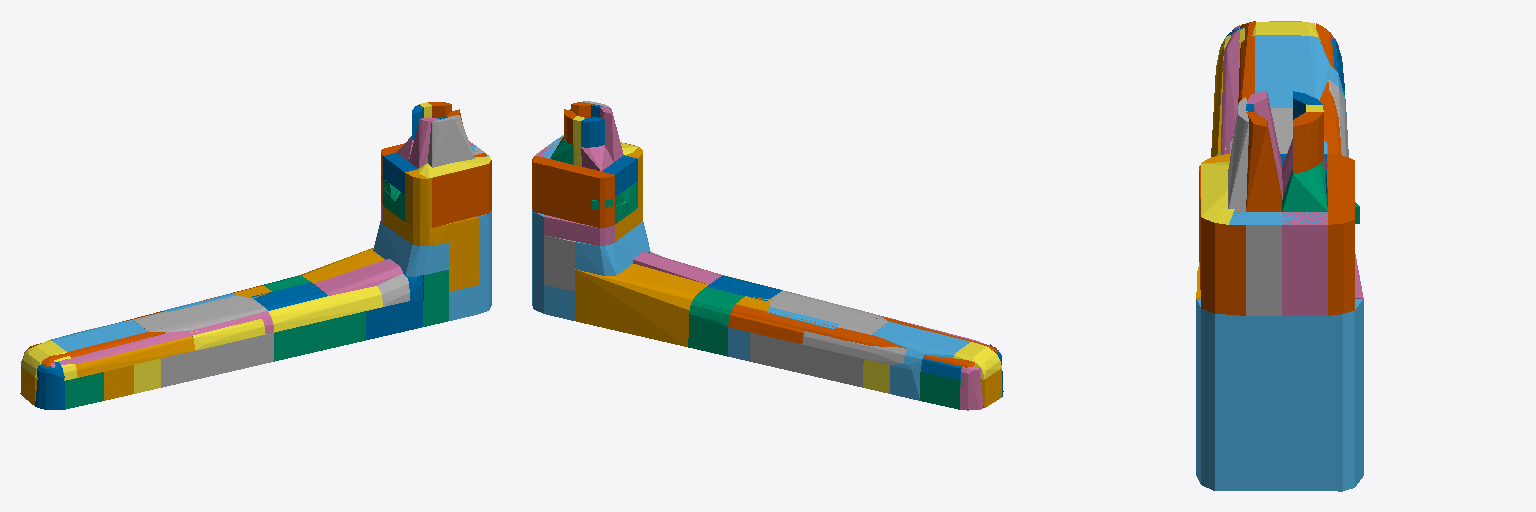
--- Render facts (derived) ---
Views: 3 orthographic renders of the robot side by side, from view 1: azimuth 30°, elevation 25°; view 2: azimuth 150°, elevation 25°; view 3: azimuth 270°, elevation 25°.
Model root with 64 links and 63 joints (63 fixed), rooted at link_handle~handle10_convex_piece_0, posed all joints at 0.
Links seen in each view (by area): view 1: link_handle~handle10_convex_piece_63, link_handle~handle10_convex_piece_21, link_handle~handle10_convex_piece_58, link_handle~handle10_convex_piece_35, link_handle~handle10_convex_piece_47, link_handle~handle10_convex_piece_49, link_handle~handle10_convex_piece_8, link_handle~handle10_convex_piece_55, link_handle~handle10_convex_piece_48, link_handle~handle10_convex_piece_44, link_handle~handle10_convex_piece_46, link_handle~handle10_convex_piece_38 (+19 smaller); view 2: link_handle~handle10_convex_piece_56, link_handle~handle10_convex_piece_45, link_handle~handle10_convex_piece_63, link_handle~handle10_convex_piece_34, link_handle~handle10_convex_piece_49, link_handle~handle10_convex_piece_47, link_handle~handle10_convex_piece_61, link_handle~handle10_convex_piece_41, link_handle~handle10_convex_piece_7, link_handle~handle10_convex_piece_22, link_handle~handle10_convex_piece_57, link_handle~handle10_convex_piece_25 (+17 smaller); view 3: link_handle~handle10_convex_piece_25, link_handle~handle10_convex_piece_6, link_handle~handle10_convex_piece_41, link_handle~handle10_convex_piece_45, link_handle~handle10_convex_piece_21, link_handle~handle10_convex_piece_15, link_handle~handle10_convex_piece_53, link_handle~handle10_convex_piece_55, link_handle~handle10_convex_piece_26, link_handle~handle10_convex_piece_29, link_handle~handle10_convex_piece_38, link_handle~handle10_convex_piece_43 (+7 smaller).
Boxes of the visible links, x1,y1,x2,y2 form: link_handle~handle10_convex_piece_63: (161,333,273,387); link_handle~handle10_convex_piece_21: (432,153,491,227); link_handle~handle10_convex_piece_58: (274,311,365,361); link_handle~handle10_convex_piece_35: (268,286,382,332); link_handle~handle10_convex_piece_47: (134,295,267,333); link_handle~handle10_convex_piece_49: (373,220,448,276); link_handle~handle10_convex_piece_8: (449,216,479,291); link_handle~handle10_convex_piece_55: (428,115,474,167); link_handle~handle10_convex_piece_48: (75,336,194,377); link_handle~handle10_convex_piece_44: (366,298,422,339); link_handle~handle10_convex_piece_46: (314,259,402,295); link_handle~handle10_convex_piece_38: (50,313,261,367); link_handle~handle10_convex_piece_56: (575,264,707,346); link_handle~handle10_convex_piece_45: (532,156,614,227); link_handle~handle10_convex_piece_63: (750,332,863,387); link_handle~handle10_convex_piece_34: (688,287,744,356); link_handle~handle10_convex_piece_49: (575,221,650,275); link_handle~handle10_convex_piece_47: (769,291,888,332); link_handle~handle10_convex_piece_61: (731,304,974,367); link_handle~handle10_convex_piece_41: (872,322,969,357); link_handle~handle10_convex_piece_7: (544,235,575,291); link_handle~handle10_convex_piece_22: (544,215,614,245); link_handle~handle10_convex_piece_57: (890,348,924,400); link_handle~handle10_convex_piece_25: (532,209,546,313); link_handle~handle10_convex_piece_25: (1196,299,1363,491); link_handle~handle10_convex_piece_6: (1282,212,1327,315); link_handle~handle10_convex_piece_41: (1255,35,1329,107); link_handle~handle10_convex_piece_45: (1327,154,1354,315); link_handle~handle10_convex_piece_21: (1199,166,1245,315); link_handle~handle10_convex_piece_15: (1246,214,1281,315); link_handle~handle10_convex_piece_53: (1246,112,1281,211); link_handle~handle10_convex_piece_55: (1228,97,1248,211); link_handle~handle10_convex_piece_26: (1282,159,1327,211); link_handle~handle10_convex_piece_29: (1293,112,1323,173); link_handle~handle10_convex_piece_38: (1221,25,1239,154); link_handle~handle10_convex_piece_43: (1201,162,1234,224).
Size in the robot's own frame: 0.1277 by 0.0227 by 0.052 metres.
64 mesh visuals loaded from 64 distinct referenced files (64 OBJ).

The robot description file, URDF, robot "root":
<robot name="root">
  <link name="link_handle~handle10_convex_piece_0">
    <inertial>
      <origin xyz="0 0 0" rpy="0 0 0"/>
      <mass value="9.66E-04"/>
      <inertia ixx="1.10E-07" ixy="-2.01E-07" ixz="-5.53E-07" iyy="3.87E-06" iyz="-3.13E-08" izz="3.80E-06"/>
    </inertial>
    <visual>
      <origin xyz="0 0 0" rpy="0 0 0"/>
      <geometry>
        <mesh filename="handle~handle10_convex_piece_0.obj" scale="1.0000E+00 1.0000E+00 1.0000E+00"/>
      </geometry>
      <material name=""/>
    </visual>
    <collision>
      <origin xyz="0 0 0" rpy="0 0 0"/>
      <geometry>
        <mesh filename="handle~handle10_convex_piece_0.obj" scale="1.0000E+00 1.0000E+00 1.0000E+00"/>
      </geometry>
    </collision>
  </link>
  <link name="link_handle~handle10_convex_piece_1">
    <inertial>
      <origin xyz="0 0 0" rpy="0 0 0"/>
      <mass value="5.49E-04"/>
      <inertia ixx="7.18E-08" ixy="4.76E-08" ixz="-7.96E-08" iyy="1.89E-07" iyz="2.88E-08" izz="1.57E-07"/>
    </inertial>
    <visual>
      <origin xyz="0 0 0" rpy="0 0 0"/>
      <geometry>
        <mesh filename="handle~handle10_convex_piece_1.obj" scale="1.0000E+00 1.0000E+00 1.0000E+00"/>
      </geometry>
      <material name=""/>
    </visual>
    <collision>
      <origin xyz="0 0 0" rpy="0 0 0"/>
      <geometry>
        <mesh filename="handle~handle10_convex_piece_1.obj" scale="1.0000E+00 1.0000E+00 1.0000E+00"/>
      </geometry>
    </collision>
  </link>
  <joint name="link_handle~handle10_convex_piece_1_joint" type="fixed">
    <origin xyz="0 0 0" rpy="0 0 0"/>
    <parent link="link_handle~handle10_convex_piece_0"/>
    <child link="link_handle~handle10_convex_piece_1"/>
  </joint>
  <link name="link_handle~handle10_convex_piece_2">
    <inertial>
      <origin xyz="0 0 0" rpy="0 0 0"/>
      <mass value="1.30E-03"/>
      <inertia ixx="1.38E-07" ixy="1.82E-07" ixz="2.47E-07" iyy="1.01E-06" iyz="-4.94E-08" izz="9.71E-07"/>
    </inertial>
    <visual>
      <origin xyz="0 0 0" rpy="0 0 0"/>
      <geometry>
        <mesh filename="handle~handle10_convex_piece_2.obj" scale="1.0000E+00 1.0000E+00 1.0000E+00"/>
      </geometry>
      <material name=""/>
    </visual>
    <collision>
      <origin xyz="0 0 0" rpy="0 0 0"/>
      <geometry>
        <mesh filename="handle~handle10_convex_piece_2.obj" scale="1.0000E+00 1.0000E+00 1.0000E+00"/>
      </geometry>
    </collision>
  </link>
  <joint name="link_handle~handle10_convex_piece_2_joint" type="fixed">
    <origin xyz="0 0 0" rpy="0 0 0"/>
    <parent link="link_handle~handle10_convex_piece_1"/>
    <child link="link_handle~handle10_convex_piece_2"/>
  </joint>
  <link name="link_handle~handle10_convex_piece_3">
    <inertial>
      <origin xyz="0 0 0" rpy="0 0 0"/>
      <mass value="1.32E-03"/>
      <inertia ixx="1.67E-07" ixy="3.54E-09" ixz="-6.92E-07" iyy="4.07E-06" iyz="2.97E-10" izz="3.97E-06"/>
    </inertial>
    <visual>
      <origin xyz="0 0 0" rpy="0 0 0"/>
      <geometry>
        <mesh filename="handle~handle10_convex_piece_3.obj" scale="1.0000E+00 1.0000E+00 1.0000E+00"/>
      </geometry>
      <material name=""/>
    </visual>
    <collision>
      <origin xyz="0 0 0" rpy="0 0 0"/>
      <geometry>
        <mesh filename="handle~handle10_convex_piece_3.obj" scale="1.0000E+00 1.0000E+00 1.0000E+00"/>
      </geometry>
    </collision>
  </link>
  <joint name="link_handle~handle10_convex_piece_3_joint" type="fixed">
    <origin xyz="0 0 0" rpy="0 0 0"/>
    <parent link="link_handle~handle10_convex_piece_2"/>
    <child link="link_handle~handle10_convex_piece_3"/>
  </joint>
  <link name="link_handle~handle10_convex_piece_4">
    <inertial>
      <origin xyz="0 0 0" rpy="0 0 0"/>
      <mass value="1.26E-04"/>
      <inertia ixx="9.52E-09" ixy="2.07E-08" ixz="8.67E-09" iyy="5.88E-08" iyz="-3.23E-09" izz="6.50E-08"/>
    </inertial>
    <visual>
      <origin xyz="0 0 0" rpy="0 0 0"/>
      <geometry>
        <mesh filename="handle~handle10_convex_piece_4.obj" scale="1.0000E+00 1.0000E+00 1.0000E+00"/>
      </geometry>
      <material name=""/>
    </visual>
    <collision>
      <origin xyz="0 0 0" rpy="0 0 0"/>
      <geometry>
        <mesh filename="handle~handle10_convex_piece_4.obj" scale="1.0000E+00 1.0000E+00 1.0000E+00"/>
      </geometry>
    </collision>
  </link>
  <joint name="link_handle~handle10_convex_piece_4_joint" type="fixed">
    <origin xyz="0 0 0" rpy="0 0 0"/>
    <parent link="link_handle~handle10_convex_piece_3"/>
    <child link="link_handle~handle10_convex_piece_4"/>
  </joint>
  <link name="link_handle~handle10_convex_piece_5">
    <inertial>
      <origin xyz="0 0 0" rpy="0 0 0"/>
      <mass value="6.37E-05"/>
      <inertia ixx="4.13E-09" ixy="-8.38E-09" ixz="-1.26E-08" iyy="7.22E-08" iyz="-1.53E-09" izz="7.01E-08"/>
    </inertial>
    <visual>
      <origin xyz="0 0 0" rpy="0 0 0"/>
      <geometry>
        <mesh filename="handle~handle10_convex_piece_5.obj" scale="1.0000E+00 1.0000E+00 1.0000E+00"/>
      </geometry>
      <material name=""/>
    </visual>
    <collision>
      <origin xyz="0 0 0" rpy="0 0 0"/>
      <geometry>
        <mesh filename="handle~handle10_convex_piece_5.obj" scale="1.0000E+00 1.0000E+00 1.0000E+00"/>
      </geometry>
    </collision>
  </link>
  <joint name="link_handle~handle10_convex_piece_5_joint" type="fixed">
    <origin xyz="0 0 0" rpy="0 0 0"/>
    <parent link="link_handle~handle10_convex_piece_4"/>
    <child link="link_handle~handle10_convex_piece_5"/>
  </joint>
  <link name="link_handle~handle10_convex_piece_6">
    <inertial>
      <origin xyz="0 0 0" rpy="0 0 0"/>
      <mass value="4.26E-04"/>
      <inertia ixx="1.64E-07" ixy="-5.77E-08" ixz="-3.39E-07" iyy="9.14E-07" iyz="-2.60E-08" izz="7.62E-07"/>
    </inertial>
    <visual>
      <origin xyz="0 0 0" rpy="0 0 0"/>
      <geometry>
        <mesh filename="handle~handle10_convex_piece_6.obj" scale="1.0000E+00 1.0000E+00 1.0000E+00"/>
      </geometry>
      <material name=""/>
    </visual>
    <collision>
      <origin xyz="0 0 0" rpy="0 0 0"/>
      <geometry>
        <mesh filename="handle~handle10_convex_piece_6.obj" scale="1.0000E+00 1.0000E+00 1.0000E+00"/>
      </geometry>
    </collision>
  </link>
  <joint name="link_handle~handle10_convex_piece_6_joint" type="fixed">
    <origin xyz="0 0 0" rpy="0 0 0"/>
    <parent link="link_handle~handle10_convex_piece_5"/>
    <child link="link_handle~handle10_convex_piece_6"/>
  </joint>
  <link name="link_handle~handle10_convex_piece_7">
    <inertial>
      <origin xyz="0 0 0" rpy="0 0 0"/>
      <mass value="7.29E-04"/>
      <inertia ixx="6.05E-08" ixy="-2.02E-07" ixz="-1.77E-08" iyy="8.79E-07" iyz="-3.94E-09" izz="9.18E-07"/>
    </inertial>
    <visual>
      <origin xyz="0 0 0" rpy="0 0 0"/>
      <geometry>
        <mesh filename="handle~handle10_convex_piece_7.obj" scale="1.0000E+00 1.0000E+00 1.0000E+00"/>
      </geometry>
      <material name=""/>
    </visual>
    <collision>
      <origin xyz="0 0 0" rpy="0 0 0"/>
      <geometry>
        <mesh filename="handle~handle10_convex_piece_7.obj" scale="1.0000E+00 1.0000E+00 1.0000E+00"/>
      </geometry>
    </collision>
  </link>
  <joint name="link_handle~handle10_convex_piece_7_joint" type="fixed">
    <origin xyz="0 0 0" rpy="0 0 0"/>
    <parent link="link_handle~handle10_convex_piece_6"/>
    <child link="link_handle~handle10_convex_piece_7"/>
  </joint>
  <link name="link_handle~handle10_convex_piece_8">
    <inertial>
      <origin xyz="0 0 0" rpy="0 0 0"/>
      <mass value="1.00E-03"/>
      <inertia ixx="1.05E-07" ixy="2.76E-07" ixz="-1.09E-07" iyy="1.23E-06" iyz="2.51E-08" izz="1.26E-06"/>
    </inertial>
    <visual>
      <origin xyz="0 0 0" rpy="0 0 0"/>
      <geometry>
        <mesh filename="handle~handle10_convex_piece_8.obj" scale="1.0000E+00 1.0000E+00 1.0000E+00"/>
      </geometry>
      <material name=""/>
    </visual>
    <collision>
      <origin xyz="0 0 0" rpy="0 0 0"/>
      <geometry>
        <mesh filename="handle~handle10_convex_piece_8.obj" scale="1.0000E+00 1.0000E+00 1.0000E+00"/>
      </geometry>
    </collision>
  </link>
  <joint name="link_handle~handle10_convex_piece_8_joint" type="fixed">
    <origin xyz="0 0 0" rpy="0 0 0"/>
    <parent link="link_handle~handle10_convex_piece_7"/>
    <child link="link_handle~handle10_convex_piece_8"/>
  </joint>
  <link name="link_handle~handle10_convex_piece_9">
    <inertial>
      <origin xyz="0 0 0" rpy="0 0 0"/>
      <mass value="0.00E+00"/>
      <inertia ixx="0.00E+00" ixy="-0.00E+00" ixz="-1.74E-22" iyy="0.00E+00" iyz="-0.00E+00" izz="0.00E+00"/>
    </inertial>
    <visual>
      <origin xyz="0 0 0" rpy="0 0 0"/>
      <geometry>
        <mesh filename="handle~handle10_convex_piece_9.obj" scale="1.0000E+00 1.0000E+00 1.0000E+00"/>
      </geometry>
      <material name=""/>
    </visual>
    <collision>
      <origin xyz="0 0 0" rpy="0 0 0"/>
      <geometry>
        <mesh filename="handle~handle10_convex_piece_9.obj" scale="1.0000E+00 1.0000E+00 1.0000E+00"/>
      </geometry>
    </collision>
  </link>
  <joint name="link_handle~handle10_convex_piece_9_joint" type="fixed">
    <origin xyz="0 0 0" rpy="0 0 0"/>
    <parent link="link_handle~handle10_convex_piece_8"/>
    <child link="link_handle~handle10_convex_piece_9"/>
  </joint>
  <link name="link_handle~handle10_convex_piece_10">
    <inertial>
      <origin xyz="0 0 0" rpy="0 0 0"/>
      <mass value="7.95E-05"/>
      <inertia ixx="2.95E-08" ixy="-1.14E-08" ixz="-3.44E-08" iyy="7.14E-08" iyz="-8.72E-09" izz="4.84E-08"/>
    </inertial>
    <visual>
      <origin xyz="0 0 0" rpy="0 0 0"/>
      <geometry>
        <mesh filename="handle~handle10_convex_piece_10.obj" scale="1.0000E+00 1.0000E+00 1.0000E+00"/>
      </geometry>
      <material name=""/>
    </visual>
    <collision>
      <origin xyz="0 0 0" rpy="0 0 0"/>
      <geometry>
        <mesh filename="handle~handle10_convex_piece_10.obj" scale="1.0000E+00 1.0000E+00 1.0000E+00"/>
      </geometry>
    </collision>
  </link>
  <joint name="link_handle~handle10_convex_piece_10_joint" type="fixed">
    <origin xyz="0 0 0" rpy="0 0 0"/>
    <parent link="link_handle~handle10_convex_piece_9"/>
    <child link="link_handle~handle10_convex_piece_10"/>
  </joint>
  <link name="link_handle~handle10_convex_piece_11">
    <inertial>
      <origin xyz="0 0 0" rpy="0 0 0"/>
      <mass value="1.10E-04"/>
      <inertia ixx="8.50E-08" ixy="-1.58E-08" ixz="-9.57E-08" iyy="2.02E-07" iyz="-1.29E-08" izz="1.21E-07"/>
    </inertial>
    <visual>
      <origin xyz="0 0 0" rpy="0 0 0"/>
      <geometry>
        <mesh filename="handle~handle10_convex_piece_11.obj" scale="1.0000E+00 1.0000E+00 1.0000E+00"/>
      </geometry>
      <material name=""/>
    </visual>
    <collision>
      <origin xyz="0 0 0" rpy="0 0 0"/>
      <geometry>
        <mesh filename="handle~handle10_convex_piece_11.obj" scale="1.0000E+00 1.0000E+00 1.0000E+00"/>
      </geometry>
    </collision>
  </link>
  <joint name="link_handle~handle10_convex_piece_11_joint" type="fixed">
    <origin xyz="0 0 0" rpy="0 0 0"/>
    <parent link="link_handle~handle10_convex_piece_10"/>
    <child link="link_handle~handle10_convex_piece_11"/>
  </joint>
  <link name="link_handle~handle10_convex_piece_12">
    <inertial>
      <origin xyz="0 0 0" rpy="0 0 0"/>
      <mass value="5.61E-05"/>
      <inertia ixx="4.03E-09" ixy="2.89E-08" ixz="-1.80E-08" iyy="2.95E-07" iyz="1.80E-09" izz="2.97E-07"/>
    </inertial>
    <visual>
      <origin xyz="0 0 0" rpy="0 0 0"/>
      <geometry>
        <mesh filename="handle~handle10_convex_piece_12.obj" scale="1.0000E+00 1.0000E+00 1.0000E+00"/>
      </geometry>
      <material name=""/>
    </visual>
    <collision>
      <origin xyz="0 0 0" rpy="0 0 0"/>
      <geometry>
        <mesh filename="handle~handle10_convex_piece_12.obj" scale="1.0000E+00 1.0000E+00 1.0000E+00"/>
      </geometry>
    </collision>
  </link>
  <joint name="link_handle~handle10_convex_piece_12_joint" type="fixed">
    <origin xyz="0 0 0" rpy="0 0 0"/>
    <parent link="link_handle~handle10_convex_piece_11"/>
    <child link="link_handle~handle10_convex_piece_12"/>
  </joint>
  <link name="link_handle~handle10_convex_piece_13">
    <inertial>
      <origin xyz="0 0 0" rpy="0 0 0"/>
      <mass value="1.04E-04"/>
      <inertia ixx="9.45E-09" ixy="1.99E-08" ixz="-1.05E-08" iyy="6.02E-08" iyz="3.88E-09" izz="6.54E-08"/>
    </inertial>
    <visual>
      <origin xyz="0 0 0" rpy="0 0 0"/>
      <geometry>
        <mesh filename="handle~handle10_convex_piece_13.obj" scale="1.0000E+00 1.0000E+00 1.0000E+00"/>
      </geometry>
      <material name=""/>
    </visual>
    <collision>
      <origin xyz="0 0 0" rpy="0 0 0"/>
      <geometry>
        <mesh filename="handle~handle10_convex_piece_13.obj" scale="1.0000E+00 1.0000E+00 1.0000E+00"/>
      </geometry>
    </collision>
  </link>
  <joint name="link_handle~handle10_convex_piece_13_joint" type="fixed">
    <origin xyz="0 0 0" rpy="0 0 0"/>
    <parent link="link_handle~handle10_convex_piece_12"/>
    <child link="link_handle~handle10_convex_piece_13"/>
  </joint>
  <link name="link_handle~handle10_convex_piece_14">
    <inertial>
      <origin xyz="0 0 0" rpy="0 0 0"/>
      <mass value="1.01E-04"/>
      <inertia ixx="1.33E-08" ixy="5.02E-08" ixz="-7.29E-08" iyy="6.50E-07" iyz="5.75E-09" izz="6.45E-07"/>
    </inertial>
    <visual>
      <origin xyz="0 0 0" rpy="0 0 0"/>
      <geometry>
        <mesh filename="handle~handle10_convex_piece_14.obj" scale="1.0000E+00 1.0000E+00 1.0000E+00"/>
      </geometry>
      <material name=""/>
    </visual>
    <collision>
      <origin xyz="0 0 0" rpy="0 0 0"/>
      <geometry>
        <mesh filename="handle~handle10_convex_piece_14.obj" scale="1.0000E+00 1.0000E+00 1.0000E+00"/>
      </geometry>
    </collision>
  </link>
  <joint name="link_handle~handle10_convex_piece_14_joint" type="fixed">
    <origin xyz="0 0 0" rpy="0 0 0"/>
    <parent link="link_handle~handle10_convex_piece_13"/>
    <child link="link_handle~handle10_convex_piece_14"/>
  </joint>
  <link name="link_handle~handle10_convex_piece_15">
    <inertial>
      <origin xyz="0 0 0" rpy="0 0 0"/>
      <mass value="6.59E-04"/>
      <inertia ixx="2.51E-07" ixy="5.80E-08" ixz="-4.97E-07" iyy="1.30E-06" iyz="2.77E-08" izz="1.06E-06"/>
    </inertial>
    <visual>
      <origin xyz="0 0 0" rpy="0 0 0"/>
      <geometry>
        <mesh filename="handle~handle10_convex_piece_15.obj" scale="1.0000E+00 1.0000E+00 1.0000E+00"/>
      </geometry>
      <material name=""/>
    </visual>
    <collision>
      <origin xyz="0 0 0" rpy="0 0 0"/>
      <geometry>
        <mesh filename="handle~handle10_convex_piece_15.obj" scale="1.0000E+00 1.0000E+00 1.0000E+00"/>
      </geometry>
    </collision>
  </link>
  <joint name="link_handle~handle10_convex_piece_15_joint" type="fixed">
    <origin xyz="0 0 0" rpy="0 0 0"/>
    <parent link="link_handle~handle10_convex_piece_14"/>
    <child link="link_handle~handle10_convex_piece_15"/>
  </joint>
  <link name="link_handle~handle10_convex_piece_16">
    <inertial>
      <origin xyz="0 0 0" rpy="0 0 0"/>
      <mass value="3.86E-04"/>
      <inertia ixx="4.54E-08" ixy="2.09E-08" ixz="-3.16E-07" iyy="2.54E-06" iyz="2.73E-09" izz="2.50E-06"/>
    </inertial>
    <visual>
      <origin xyz="0 0 0" rpy="0 0 0"/>
      <geometry>
        <mesh filename="handle~handle10_convex_piece_16.obj" scale="1.0000E+00 1.0000E+00 1.0000E+00"/>
      </geometry>
      <material name=""/>
    </visual>
    <collision>
      <origin xyz="0 0 0" rpy="0 0 0"/>
      <geometry>
        <mesh filename="handle~handle10_convex_piece_16.obj" scale="1.0000E+00 1.0000E+00 1.0000E+00"/>
      </geometry>
    </collision>
  </link>
  <joint name="link_handle~handle10_convex_piece_16_joint" type="fixed">
    <origin xyz="0 0 0" rpy="0 0 0"/>
    <parent link="link_handle~handle10_convex_piece_15"/>
    <child link="link_handle~handle10_convex_piece_16"/>
  </joint>
  <link name="link_handle~handle10_convex_piece_17">
    <inertial>
      <origin xyz="0 0 0" rpy="0 0 0"/>
      <mass value="1.62E-03"/>
      <inertia ixx="2.50E-07" ixy="-6.20E-10" ixz="5.82E-07" iyy="2.15E-06" iyz="1.76E-10" izz="2.04E-06"/>
    </inertial>
    <visual>
      <origin xyz="0 0 0" rpy="0 0 0"/>
      <geometry>
        <mesh filename="handle~handle10_convex_piece_17.obj" scale="1.0000E+00 1.0000E+00 1.0000E+00"/>
      </geometry>
      <material name=""/>
    </visual>
    <collision>
      <origin xyz="0 0 0" rpy="0 0 0"/>
      <geometry>
        <mesh filename="handle~handle10_convex_piece_17.obj" scale="1.0000E+00 1.0000E+00 1.0000E+00"/>
      </geometry>
    </collision>
  </link>
  <joint name="link_handle~handle10_convex_piece_17_joint" type="fixed">
    <origin xyz="0 0 0" rpy="0 0 0"/>
    <parent link="link_handle~handle10_convex_piece_16"/>
    <child link="link_handle~handle10_convex_piece_17"/>
  </joint>
  <link name="link_handle~handle10_convex_piece_18">
    <inertial>
      <origin xyz="0 0 0" rpy="0 0 0"/>
      <mass value="1.58E-03"/>
      <inertia ixx="2.16E-07" ixy="1.76E-09" ixz="-1.18E-06" iyy="8.41E-06" iyz="1.72E-10" izz="8.28E-06"/>
    </inertial>
    <visual>
      <origin xyz="0 0 0" rpy="0 0 0"/>
      <geometry>
        <mesh filename="handle~handle10_convex_piece_18.obj" scale="1.0000E+00 1.0000E+00 1.0000E+00"/>
      </geometry>
      <material name=""/>
    </visual>
    <collision>
      <origin xyz="0 0 0" rpy="0 0 0"/>
      <geometry>
        <mesh filename="handle~handle10_convex_piece_18.obj" scale="1.0000E+00 1.0000E+00 1.0000E+00"/>
      </geometry>
    </collision>
  </link>
  <joint name="link_handle~handle10_convex_piece_18_joint" type="fixed">
    <origin xyz="0 0 0" rpy="0 0 0"/>
    <parent link="link_handle~handle10_convex_piece_17"/>
    <child link="link_handle~handle10_convex_piece_18"/>
  </joint>
  <link name="link_handle~handle10_convex_piece_19">
    <inertial>
      <origin xyz="0 0 0" rpy="0 0 0"/>
      <mass value="3.68E-04"/>
      <inertia ixx="1.62E-08" ixy="3.36E-12" ixz="-4.61E-08" iyy="5.04E-07" iyz="3.16E-13" izz="4.93E-07"/>
    </inertial>
    <visual>
      <origin xyz="0 0 0" rpy="0 0 0"/>
      <geometry>
        <mesh filename="handle~handle10_convex_piece_19.obj" scale="1.0000E+00 1.0000E+00 1.0000E+00"/>
      </geometry>
      <material name=""/>
    </visual>
    <collision>
      <origin xyz="0 0 0" rpy="0 0 0"/>
      <geometry>
        <mesh filename="handle~handle10_convex_piece_19.obj" scale="1.0000E+00 1.0000E+00 1.0000E+00"/>
      </geometry>
    </collision>
  </link>
  <joint name="link_handle~handle10_convex_piece_19_joint" type="fixed">
    <origin xyz="0 0 0" rpy="0 0 0"/>
    <parent link="link_handle~handle10_convex_piece_18"/>
    <child link="link_handle~handle10_convex_piece_19"/>
  </joint>
  <link name="link_handle~handle10_convex_piece_20">
    <inertial>
      <origin xyz="0 0 0" rpy="0 0 0"/>
      <mass value="1.97E-04"/>
      <inertia ixx="2.43E-08" ixy="-8.39E-08" ixz="-1.43E-07" iyy="1.27E-06" iyz="-9.60E-09" izz="1.26E-06"/>
    </inertial>
    <visual>
      <origin xyz="0 0 0" rpy="0 0 0"/>
      <geometry>
        <mesh filename="handle~handle10_convex_piece_20.obj" scale="1.0000E+00 1.0000E+00 1.0000E+00"/>
      </geometry>
      <material name=""/>
    </visual>
    <collision>
      <origin xyz="0 0 0" rpy="0 0 0"/>
      <geometry>
        <mesh filename="handle~handle10_convex_piece_20.obj" scale="1.0000E+00 1.0000E+00 1.0000E+00"/>
      </geometry>
    </collision>
  </link>
  <joint name="link_handle~handle10_convex_piece_20_joint" type="fixed">
    <origin xyz="0 0 0" rpy="0 0 0"/>
    <parent link="link_handle~handle10_convex_piece_19"/>
    <child link="link_handle~handle10_convex_piece_20"/>
  </joint>
  <link name="link_handle~handle10_convex_piece_21">
    <inertial>
      <origin xyz="0 0 0" rpy="0 0 0"/>
      <mass value="1.69E-03"/>
      <inertia ixx="7.27E-07" ixy="4.37E-07" ixz="-1.09E-06" iyy="2.65E-06" iyz="2.41E-07" izz="2.13E-06"/>
    </inertial>
    <visual>
      <origin xyz="0 0 0" rpy="0 0 0"/>
      <geometry>
        <mesh filename="handle~handle10_convex_piece_21.obj" scale="1.0000E+00 1.0000E+00 1.0000E+00"/>
      </geometry>
      <material name=""/>
    </visual>
    <collision>
      <origin xyz="0 0 0" rpy="0 0 0"/>
      <geometry>
        <mesh filename="handle~handle10_convex_piece_21.obj" scale="1.0000E+00 1.0000E+00 1.0000E+00"/>
      </geometry>
    </collision>
  </link>
  <joint name="link_handle~handle10_convex_piece_21_joint" type="fixed">
    <origin xyz="0 0 0" rpy="0 0 0"/>
    <parent link="link_handle~handle10_convex_piece_20"/>
    <child link="link_handle~handle10_convex_piece_21"/>
  </joint>
  <link name="link_handle~handle10_convex_piece_22">
    <inertial>
      <origin xyz="0 0 0" rpy="0 0 0"/>
      <mass value="4.37E-04"/>
      <inertia ixx="7.14E-08" ixy="-1.10E-07" ixz="-1.32E-07" iyy="4.75E-07" iyz="-3.41E-08" izz="4.63E-07"/>
    </inertial>
    <visual>
      <origin xyz="0 0 0" rpy="0 0 0"/>
      <geometry>
        <mesh filename="handle~handle10_convex_piece_22.obj" scale="1.0000E+00 1.0000E+00 1.0000E+00"/>
      </geometry>
      <material name=""/>
    </visual>
    <collision>
      <origin xyz="0 0 0" rpy="0 0 0"/>
      <geometry>
        <mesh filename="handle~handle10_convex_piece_22.obj" scale="1.0000E+00 1.0000E+00 1.0000E+00"/>
      </geometry>
    </collision>
  </link>
  <joint name="link_handle~handle10_convex_piece_22_joint" type="fixed">
    <origin xyz="0 0 0" rpy="0 0 0"/>
    <parent link="link_handle~handle10_convex_piece_21"/>
    <child link="link_handle~handle10_convex_piece_22"/>
  </joint>
  <link name="link_handle~handle10_convex_piece_23">
    <inertial>
      <origin xyz="0 0 0" rpy="0 0 0"/>
      <mass value="5.21E-05"/>
      <inertia ixx="4.34E-09" ixy="2.30E-08" ixz="-1.31E-08" iyy="1.66E-07" iyz="1.86E-09" izz="1.68E-07"/>
    </inertial>
    <visual>
      <origin xyz="0 0 0" rpy="0 0 0"/>
      <geometry>
        <mesh filename="handle~handle10_convex_piece_23.obj" scale="1.0000E+00 1.0000E+00 1.0000E+00"/>
      </geometry>
      <material name=""/>
    </visual>
    <collision>
      <origin xyz="0 0 0" rpy="0 0 0"/>
      <geometry>
        <mesh filename="handle~handle10_convex_piece_23.obj" scale="1.0000E+00 1.0000E+00 1.0000E+00"/>
      </geometry>
    </collision>
  </link>
  <joint name="link_handle~handle10_convex_piece_23_joint" type="fixed">
    <origin xyz="0 0 0" rpy="0 0 0"/>
    <parent link="link_handle~handle10_convex_piece_22"/>
    <child link="link_handle~handle10_convex_piece_23"/>
  </joint>
  <link name="link_handle~handle10_convex_piece_24">
    <inertial>
      <origin xyz="0 0 0" rpy="0 0 0"/>
      <mass value="2.36E-04"/>
      <inertia ixx="1.08E-07" ixy="4.22E-08" ixz="-1.10E-07" iyy="2.28E-07" iyz="3.44E-08" izz="1.47E-07"/>
    </inertial>
    <visual>
      <origin xyz="0 0 0" rpy="0 0 0"/>
      <geometry>
        <mesh filename="handle~handle10_convex_piece_24.obj" scale="1.0000E+00 1.0000E+00 1.0000E+00"/>
      </geometry>
      <material name=""/>
    </visual>
    <collision>
      <origin xyz="0 0 0" rpy="0 0 0"/>
      <geometry>
        <mesh filename="handle~handle10_convex_piece_24.obj" scale="1.0000E+00 1.0000E+00 1.0000E+00"/>
      </geometry>
    </collision>
  </link>
  <joint name="link_handle~handle10_convex_piece_24_joint" type="fixed">
    <origin xyz="0 0 0" rpy="0 0 0"/>
    <parent link="link_handle~handle10_convex_piece_23"/>
    <child link="link_handle~handle10_convex_piece_24"/>
  </joint>
  <link name="link_handle~handle10_convex_piece_25">
    <inertial>
      <origin xyz="0 0 0" rpy="0 0 0"/>
      <mass value="2.85E-03"/>
      <inertia ixx="2.75E-07" ixy="-2.08E-10" ixz="1.26E-07" iyy="5.06E-06" iyz="-6.00E-12" izz="5.00E-06"/>
    </inertial>
    <visual>
      <origin xyz="0 0 0" rpy="0 0 0"/>
      <geometry>
        <mesh filename="handle~handle10_convex_piece_25.obj" scale="1.0000E+00 1.0000E+00 1.0000E+00"/>
      </geometry>
      <material name=""/>
    </visual>
    <collision>
      <origin xyz="0 0 0" rpy="0 0 0"/>
      <geometry>
        <mesh filename="handle~handle10_convex_piece_25.obj" scale="1.0000E+00 1.0000E+00 1.0000E+00"/>
      </geometry>
    </collision>
  </link>
  <joint name="link_handle~handle10_convex_piece_25_joint" type="fixed">
    <origin xyz="0 0 0" rpy="0 0 0"/>
    <parent link="link_handle~handle10_convex_piece_24"/>
    <child link="link_handle~handle10_convex_piece_25"/>
  </joint>
  <link name="link_handle~handle10_convex_piece_26">
    <inertial>
      <origin xyz="0 0 0" rpy="0 0 0"/>
      <mass value="5.97E-04"/>
      <inertia ixx="2.83E-07" ixy="-8.32E-08" ixz="-4.70E-07" iyy="1.13E-06" iyz="-4.53E-08" izz="8.68E-07"/>
    </inertial>
    <visual>
      <origin xyz="0 0 0" rpy="0 0 0"/>
      <geometry>
        <mesh filename="handle~handle10_convex_piece_26.obj" scale="1.0000E+00 1.0000E+00 1.0000E+00"/>
      </geometry>
      <material name=""/>
    </visual>
    <collision>
      <origin xyz="0 0 0" rpy="0 0 0"/>
      <geometry>
        <mesh filename="handle~handle10_convex_piece_26.obj" scale="1.0000E+00 1.0000E+00 1.0000E+00"/>
      </geometry>
    </collision>
  </link>
  <joint name="link_handle~handle10_convex_piece_26_joint" type="fixed">
    <origin xyz="0 0 0" rpy="0 0 0"/>
    <parent link="link_handle~handle10_convex_piece_25"/>
    <child link="link_handle~handle10_convex_piece_26"/>
  </joint>
  <link name="link_handle~handle10_convex_piece_27">
    <inertial>
      <origin xyz="0 0 0" rpy="0 0 0"/>
      <mass value="9.42E-05"/>
      <inertia ixx="8.77E-09" ixy="-2.44E-08" ixz="-1.29E-08" iyy="9.31E-08" iyz="-3.61E-09" izz="9.79E-08"/>
    </inertial>
    <visual>
      <origin xyz="0 0 0" rpy="0 0 0"/>
      <geometry>
        <mesh filename="handle~handle10_convex_piece_27.obj" scale="1.0000E+00 1.0000E+00 1.0000E+00"/>
      </geometry>
      <material name=""/>
    </visual>
    <collision>
      <origin xyz="0 0 0" rpy="0 0 0"/>
      <geometry>
        <mesh filename="handle~handle10_convex_piece_27.obj" scale="1.0000E+00 1.0000E+00 1.0000E+00"/>
      </geometry>
    </collision>
  </link>
  <joint name="link_handle~handle10_convex_piece_27_joint" type="fixed">
    <origin xyz="0 0 0" rpy="0 0 0"/>
    <parent link="link_handle~handle10_convex_piece_26"/>
    <child link="link_handle~handle10_convex_piece_27"/>
  </joint>
  <link name="link_handle~handle10_convex_piece_28">
    <inertial>
      <origin xyz="0 0 0" rpy="0 0 0"/>
      <mass value="7.24E-05"/>
      <inertia ixx="8.57E-08" ixy="-7.64E-09" ixz="-7.38E-08" iyy="1.49E-07" iyz="-8.68E-09" izz="6.56E-08"/>
    </inertial>
    <visual>
      <origin xyz="0 0 0" rpy="0 0 0"/>
      <geometry>
        <mesh filename="handle~handle10_convex_piece_28.obj" scale="1.0000E+00 1.0000E+00 1.0000E+00"/>
      </geometry>
      <material name=""/>
    </visual>
    <collision>
      <origin xyz="0 0 0" rpy="0 0 0"/>
      <geometry>
        <mesh filename="handle~handle10_convex_piece_28.obj" scale="1.0000E+00 1.0000E+00 1.0000E+00"/>
      </geometry>
    </collision>
  </link>
  <joint name="link_handle~handle10_convex_piece_28_joint" type="fixed">
    <origin xyz="0 0 0" rpy="0 0 0"/>
    <parent link="link_handle~handle10_convex_piece_27"/>
    <child link="link_handle~handle10_convex_piece_28"/>
  </joint>
  <link name="link_handle~handle10_convex_piece_29">
    <inertial>
      <origin xyz="0 0 0" rpy="0 0 0"/>
      <mass value="8.22E-05"/>
      <inertia ixx="9.75E-08" ixy="-1.06E-08" ixz="-1.02E-07" iyy="2.04E-07" iyz="-1.01E-08" izz="1.09E-07"/>
    </inertial>
    <visual>
      <origin xyz="0 0 0" rpy="0 0 0"/>
      <geometry>
        <mesh filename="handle~handle10_convex_piece_29.obj" scale="1.0000E+00 1.0000E+00 1.0000E+00"/>
      </geometry>
      <material name=""/>
    </visual>
    <collision>
      <origin xyz="0 0 0" rpy="0 0 0"/>
      <geometry>
        <mesh filename="handle~handle10_convex_piece_29.obj" scale="1.0000E+00 1.0000E+00 1.0000E+00"/>
      </geometry>
    </collision>
  </link>
  <joint name="link_handle~handle10_convex_piece_29_joint" type="fixed">
    <origin xyz="0 0 0" rpy="0 0 0"/>
    <parent link="link_handle~handle10_convex_piece_28"/>
    <child link="link_handle~handle10_convex_piece_29"/>
  </joint>
  <link name="link_handle~handle10_convex_piece_30">
    <inertial>
      <origin xyz="0 0 0" rpy="0 0 0"/>
      <mass value="2.30E-05"/>
      <inertia ixx="1.69E-09" ixy="-3.50E-09" ixz="-1.66E-09" iyy="9.55E-09" iyz="-6.54E-10" izz="1.06E-08"/>
    </inertial>
    <visual>
      <origin xyz="0 0 0" rpy="0 0 0"/>
      <geometry>
        <mesh filename="handle~handle10_convex_piece_30.obj" scale="1.0000E+00 1.0000E+00 1.0000E+00"/>
      </geometry>
      <material name=""/>
    </visual>
    <collision>
      <origin xyz="0 0 0" rpy="0 0 0"/>
      <geometry>
        <mesh filename="handle~handle10_convex_piece_30.obj" scale="1.0000E+00 1.0000E+00 1.0000E+00"/>
      </geometry>
    </collision>
  </link>
  <joint name="link_handle~handle10_convex_piece_30_joint" type="fixed">
    <origin xyz="0 0 0" rpy="0 0 0"/>
    <parent link="link_handle~handle10_convex_piece_29"/>
    <child link="link_handle~handle10_convex_piece_30"/>
  </joint>
  <link name="link_handle~handle10_convex_piece_31">
    <inertial>
      <origin xyz="0 0 0" rpy="0 0 0"/>
      <mass value="6.12E-05"/>
      <inertia ixx="5.96E-09" ixy="8.94E-09" ixz="3.44E-09" iyy="1.70E-08" iyz="-2.02E-09" izz="2.12E-08"/>
    </inertial>
    <visual>
      <origin xyz="0 0 0" rpy="0 0 0"/>
      <geometry>
        <mesh filename="handle~handle10_convex_piece_31.obj" scale="1.0000E+00 1.0000E+00 1.0000E+00"/>
      </geometry>
      <material name=""/>
    </visual>
    <collision>
      <origin xyz="0 0 0" rpy="0 0 0"/>
      <geometry>
        <mesh filename="handle~handle10_convex_piece_31.obj" scale="1.0000E+00 1.0000E+00 1.0000E+00"/>
      </geometry>
    </collision>
  </link>
  <joint name="link_handle~handle10_convex_piece_31_joint" type="fixed">
    <origin xyz="0 0 0" rpy="0 0 0"/>
    <parent link="link_handle~handle10_convex_piece_30"/>
    <child link="link_handle~handle10_convex_piece_31"/>
  </joint>
  <link name="link_handle~handle10_convex_piece_32">
    <inertial>
      <origin xyz="0 0 0" rpy="0 0 0"/>
      <mass value="7.07E-04"/>
      <inertia ixx="8.77E-08" ixy="4.75E-08" ixz="-1.80E-07" iyy="5.57E-07" iyz="1.71E-08" izz="5.09E-07"/>
    </inertial>
    <visual>
      <origin xyz="0 0 0" rpy="0 0 0"/>
      <geometry>
        <mesh filename="handle~handle10_convex_piece_32.obj" scale="1.0000E+00 1.0000E+00 1.0000E+00"/>
      </geometry>
      <material name=""/>
    </visual>
    <collision>
      <origin xyz="0 0 0" rpy="0 0 0"/>
      <geometry>
        <mesh filename="handle~handle10_convex_piece_32.obj" scale="1.0000E+00 1.0000E+00 1.0000E+00"/>
      </geometry>
    </collision>
  </link>
  <joint name="link_handle~handle10_convex_piece_32_joint" type="fixed">
    <origin xyz="0 0 0" rpy="0 0 0"/>
    <parent link="link_handle~handle10_convex_piece_31"/>
    <child link="link_handle~handle10_convex_piece_32"/>
  </joint>
  <link name="link_handle~handle10_convex_piece_33">
    <inertial>
      <origin xyz="0 0 0" rpy="0 0 0"/>
      <mass value="1.36E-04"/>
      <inertia ixx="6.47E-09" ixy="2.48E-08" ixz="-1.22E-08" iyy="1.31E-07" iyz="2.56E-09" izz="1.34E-07"/>
    </inertial>
    <visual>
      <origin xyz="0 0 0" rpy="0 0 0"/>
      <geometry>
        <mesh filename="handle~handle10_convex_piece_33.obj" scale="1.0000E+00 1.0000E+00 1.0000E+00"/>
      </geometry>
      <material name=""/>
    </visual>
    <collision>
      <origin xyz="0 0 0" rpy="0 0 0"/>
      <geometry>
        <mesh filename="handle~handle10_convex_piece_33.obj" scale="1.0000E+00 1.0000E+00 1.0000E+00"/>
      </geometry>
    </collision>
  </link>
  <joint name="link_handle~handle10_convex_piece_33_joint" type="fixed">
    <origin xyz="0 0 0" rpy="0 0 0"/>
    <parent link="link_handle~handle10_convex_piece_32"/>
    <child link="link_handle~handle10_convex_piece_33"/>
  </joint>
  <link name="link_handle~handle10_convex_piece_34">
    <inertial>
      <origin xyz="0 0 0" rpy="0 0 0"/>
      <mass value="1.24E-03"/>
      <inertia ixx="1.46E-07" ixy="4.99E-08" ixz="-7.10E-08" iyy="1.72E-07" iyz="5.89E-08" izz="1.22E-07"/>
    </inertial>
    <visual>
      <origin xyz="0 0 0" rpy="0 0 0"/>
      <geometry>
        <mesh filename="handle~handle10_convex_piece_34.obj" scale="1.0000E+00 1.0000E+00 1.0000E+00"/>
      </geometry>
      <material name=""/>
    </visual>
    <collision>
      <origin xyz="0 0 0" rpy="0 0 0"/>
      <geometry>
        <mesh filename="handle~handle10_convex_piece_34.obj" scale="1.0000E+00 1.0000E+00 1.0000E+00"/>
      </geometry>
    </collision>
  </link>
  <joint name="link_handle~handle10_convex_piece_34_joint" type="fixed">
    <origin xyz="0 0 0" rpy="0 0 0"/>
    <parent link="link_handle~handle10_convex_piece_33"/>
    <child link="link_handle~handle10_convex_piece_34"/>
  </joint>
  <link name="link_handle~handle10_convex_piece_35">
    <inertial>
      <origin xyz="0 0 0" rpy="0 0 0"/>
      <mass value="1.69E-04"/>
      <inertia ixx="1.62E-08" ixy="-4.46E-09" ixz="-2.24E-09" iyy="1.75E-08" iyz="-6.09E-09" izz="2.78E-08"/>
    </inertial>
    <visual>
      <origin xyz="0 0 0" rpy="0 0 0"/>
      <geometry>
        <mesh filename="handle~handle10_convex_piece_35.obj" scale="1.0000E+00 1.0000E+00 1.0000E+00"/>
      </geometry>
      <material name=""/>
    </visual>
    <collision>
      <origin xyz="0 0 0" rpy="0 0 0"/>
      <geometry>
        <mesh filename="handle~handle10_convex_piece_35.obj" scale="1.0000E+00 1.0000E+00 1.0000E+00"/>
      </geometry>
    </collision>
  </link>
  <joint name="link_handle~handle10_convex_piece_35_joint" type="fixed">
    <origin xyz="0 0 0" rpy="0 0 0"/>
    <parent link="link_handle~handle10_convex_piece_34"/>
    <child link="link_handle~handle10_convex_piece_35"/>
  </joint>
  <link name="link_handle~handle10_convex_piece_36">
    <inertial>
      <origin xyz="0 0 0" rpy="0 0 0"/>
      <mass value="4.37E-04"/>
      <inertia ixx="1.49E-08" ixy="-1.83E-08" ixz="-1.32E-08" iyy="6.02E-08" iyz="-6.14E-09" izz="6.64E-08"/>
    </inertial>
    <visual>
      <origin xyz="0 0 0" rpy="0 0 0"/>
      <geometry>
        <mesh filename="handle~handle10_convex_piece_36.obj" scale="1.0000E+00 1.0000E+00 1.0000E+00"/>
      </geometry>
      <material name=""/>
    </visual>
    <collision>
      <origin xyz="0 0 0" rpy="0 0 0"/>
      <geometry>
        <mesh filename="handle~handle10_convex_piece_36.obj" scale="1.0000E+00 1.0000E+00 1.0000E+00"/>
      </geometry>
    </collision>
  </link>
  <joint name="link_handle~handle10_convex_piece_36_joint" type="fixed">
    <origin xyz="0 0 0" rpy="0 0 0"/>
    <parent link="link_handle~handle10_convex_piece_35"/>
    <child link="link_handle~handle10_convex_piece_36"/>
  </joint>
  <link name="link_handle~handle10_convex_piece_37">
    <inertial>
      <origin xyz="0 0 0" rpy="0 0 0"/>
      <mass value="8.27E-05"/>
      <inertia ixx="1.98E-09" ixy="-2.26E-08" ixz="-1.14E-08" iyy="3.39E-07" iyz="-7.80E-10" izz="3.41E-07"/>
    </inertial>
    <visual>
      <origin xyz="0 0 0" rpy="0 0 0"/>
      <geometry>
        <mesh filename="handle~handle10_convex_piece_37.obj" scale="1.0000E+00 1.0000E+00 1.0000E+00"/>
      </geometry>
      <material name=""/>
    </visual>
    <collision>
      <origin xyz="0 0 0" rpy="0 0 0"/>
      <geometry>
        <mesh filename="handle~handle10_convex_piece_37.obj" scale="1.0000E+00 1.0000E+00 1.0000E+00"/>
      </geometry>
    </collision>
  </link>
  <joint name="link_handle~handle10_convex_piece_37_joint" type="fixed">
    <origin xyz="0 0 0" rpy="0 0 0"/>
    <parent link="link_handle~handle10_convex_piece_36"/>
    <child link="link_handle~handle10_convex_piece_37"/>
  </joint>
  <link name="link_handle~handle10_convex_piece_38">
    <inertial>
      <origin xyz="0 0 0" rpy="0 0 0"/>
      <mass value="7.99E-05"/>
      <inertia ixx="4.12E-09" ixy="-2.59E-08" ixz="-1.02E-08" iyy="2.11E-07" iyz="-1.37E-09" izz="2.14E-07"/>
    </inertial>
    <visual>
      <origin xyz="0 0 0" rpy="0 0 0"/>
      <geometry>
        <mesh filename="handle~handle10_convex_piece_38.obj" scale="1.0000E+00 1.0000E+00 1.0000E+00"/>
      </geometry>
      <material name=""/>
    </visual>
    <collision>
      <origin xyz="0 0 0" rpy="0 0 0"/>
      <geometry>
        <mesh filename="handle~handle10_convex_piece_38.obj" scale="1.0000E+00 1.0000E+00 1.0000E+00"/>
      </geometry>
    </collision>
  </link>
  <joint name="link_handle~handle10_convex_piece_38_joint" type="fixed">
    <origin xyz="0 0 0" rpy="0 0 0"/>
    <parent link="link_handle~handle10_convex_piece_37"/>
    <child link="link_handle~handle10_convex_piece_38"/>
  </joint>
  <link name="link_handle~handle10_convex_piece_39">
    <inertial>
      <origin xyz="0 0 0" rpy="0 0 0"/>
      <mass value="1.60E-04"/>
      <inertia ixx="1.03E-08" ixy="4.69E-08" ixz="-2.40E-08" iyy="2.89E-07" iyz="4.19E-09" izz="2.95E-07"/>
    </inertial>
    <visual>
      <origin xyz="0 0 0" rpy="0 0 0"/>
      <geometry>
        <mesh filename="handle~handle10_convex_piece_39.obj" scale="1.0000E+00 1.0000E+00 1.0000E+00"/>
      </geometry>
      <material name=""/>
    </visual>
    <collision>
      <origin xyz="0 0 0" rpy="0 0 0"/>
      <geometry>
        <mesh filename="handle~handle10_convex_piece_39.obj" scale="1.0000E+00 1.0000E+00 1.0000E+00"/>
      </geometry>
    </collision>
  </link>
  <joint name="link_handle~handle10_convex_piece_39_joint" type="fixed">
    <origin xyz="0 0 0" rpy="0 0 0"/>
    <parent link="link_handle~handle10_convex_piece_38"/>
    <child link="link_handle~handle10_convex_piece_39"/>
  </joint>
  <link name="link_handle~handle10_convex_piece_40">
    <inertial>
      <origin xyz="0 0 0" rpy="0 0 0"/>
      <mass value="1.46E-04"/>
      <inertia ixx="5.48E-09" ixy="1.20E-08" ixz="-7.55E-09" iyy="4.51E-08" iyz="2.35E-09" izz="4.75E-08"/>
    </inertial>
    <visual>
      <origin xyz="0 0 0" rpy="0 0 0"/>
      <geometry>
        <mesh filename="handle~handle10_convex_piece_40.obj" scale="1.0000E+00 1.0000E+00 1.0000E+00"/>
      </geometry>
      <material name=""/>
    </visual>
    <collision>
      <origin xyz="0 0 0" rpy="0 0 0"/>
      <geometry>
        <mesh filename="handle~handle10_convex_piece_40.obj" scale="1.0000E+00 1.0000E+00 1.0000E+00"/>
      </geometry>
    </collision>
  </link>
  <joint name="link_handle~handle10_convex_piece_40_joint" type="fixed">
    <origin xyz="0 0 0" rpy="0 0 0"/>
    <parent link="link_handle~handle10_convex_piece_39"/>
    <child link="link_handle~handle10_convex_piece_40"/>
  </joint>
  <link name="link_handle~handle10_convex_piece_41">
    <inertial>
      <origin xyz="0 0 0" rpy="0 0 0"/>
      <mass value="6.87E-04"/>
      <inertia ixx="1.82E-08" ixy="1.19E-07" ixz="-1.31E-07" iyy="2.73E-06" iyz="7.14E-09" izz="2.73E-06"/>
    </inertial>
    <visual>
      <origin xyz="0 0 0" rpy="0 0 0"/>
      <geometry>
        <mesh filename="handle~handle10_convex_piece_41.obj" scale="1.0000E+00 1.0000E+00 1.0000E+00"/>
      </geometry>
      <material name=""/>
    </visual>
    <collision>
      <origin xyz="0 0 0" rpy="0 0 0"/>
      <geometry>
        <mesh filename="handle~handle10_convex_piece_41.obj" scale="1.0000E+00 1.0000E+00 1.0000E+00"/>
      </geometry>
    </collision>
  </link>
  <joint name="link_handle~handle10_convex_piece_41_joint" type="fixed">
    <origin xyz="0 0 0" rpy="0 0 0"/>
    <parent link="link_handle~handle10_convex_piece_40"/>
    <child link="link_handle~handle10_convex_piece_41"/>
  </joint>
  <link name="link_handle~handle10_convex_piece_42">
    <inertial>
      <origin xyz="0 0 0" rpy="0 0 0"/>
      <mass value="3.02E-04"/>
      <inertia ixx="7.59E-08" ixy="1.97E-08" ixz="-1.23E-07" iyy="2.85E-07" iyz="1.18E-08" izz="2.14E-07"/>
    </inertial>
    <visual>
      <origin xyz="0 0 0" rpy="0 0 0"/>
      <geometry>
        <mesh filename="handle~handle10_convex_piece_42.obj" scale="1.0000E+00 1.0000E+00 1.0000E+00"/>
      </geometry>
      <material name=""/>
    </visual>
    <collision>
      <origin xyz="0 0 0" rpy="0 0 0"/>
      <geometry>
        <mesh filename="handle~handle10_convex_piece_42.obj" scale="1.0000E+00 1.0000E+00 1.0000E+00"/>
      </geometry>
    </collision>
  </link>
  <joint name="link_handle~handle10_convex_piece_42_joint" type="fixed">
    <origin xyz="0 0 0" rpy="0 0 0"/>
    <parent link="link_handle~handle10_convex_piece_41"/>
    <child link="link_handle~handle10_convex_piece_42"/>
  </joint>
  <link name="link_handle~handle10_convex_piece_43">
    <inertial>
      <origin xyz="0 0 0" rpy="0 0 0"/>
      <mass value="4.19E-05"/>
      <inertia ixx="3.05E-08" ixy="9.54E-09" ixz="-3.51E-08" iyy="7.27E-08" iyz="7.64E-09" izz="4.65E-08"/>
    </inertial>
    <visual>
      <origin xyz="0 0 0" rpy="0 0 0"/>
      <geometry>
        <mesh filename="handle~handle10_convex_piece_43.obj" scale="1.0000E+00 1.0000E+00 1.0000E+00"/>
      </geometry>
      <material name=""/>
    </visual>
    <collision>
      <origin xyz="0 0 0" rpy="0 0 0"/>
      <geometry>
        <mesh filename="handle~handle10_convex_piece_43.obj" scale="1.0000E+00 1.0000E+00 1.0000E+00"/>
      </geometry>
    </collision>
  </link>
  <joint name="link_handle~handle10_convex_piece_43_joint" type="fixed">
    <origin xyz="0 0 0" rpy="0 0 0"/>
    <parent link="link_handle~handle10_convex_piece_42"/>
    <child link="link_handle~handle10_convex_piece_43"/>
  </joint>
  <link name="link_handle~handle10_convex_piece_44">
    <inertial>
      <origin xyz="0 0 0" rpy="0 0 0"/>
      <mass value="1.75E-03"/>
      <inertia ixx="2.36E-07" ixy="1.32E-07" ixz="2.51E-07" iyy="5.95E-07" iyz="-8.61E-08" izz="4.83E-07"/>
    </inertial>
    <visual>
      <origin xyz="0 0 0" rpy="0 0 0"/>
      <geometry>
        <mesh filename="handle~handle10_convex_piece_44.obj" scale="1.0000E+00 1.0000E+00 1.0000E+00"/>
      </geometry>
      <material name=""/>
    </visual>
    <collision>
      <origin xyz="0 0 0" rpy="0 0 0"/>
      <geometry>
        <mesh filename="handle~handle10_convex_piece_44.obj" scale="1.0000E+00 1.0000E+00 1.0000E+00"/>
      </geometry>
    </collision>
  </link>
  <joint name="link_handle~handle10_convex_piece_44_joint" type="fixed">
    <origin xyz="0 0 0" rpy="0 0 0"/>
    <parent link="link_handle~handle10_convex_piece_43"/>
    <child link="link_handle~handle10_convex_piece_44"/>
  </joint>
  <link name="link_handle~handle10_convex_piece_45">
    <inertial>
      <origin xyz="0 0 0" rpy="0 0 0"/>
      <mass value="1.14E-03"/>
      <inertia ixx="5.04E-07" ixy="-3.11E-07" ixz="-7.15E-07" iyy="1.72E-06" iyz="-1.77E-07" izz="1.37E-06"/>
    </inertial>
    <visual>
      <origin xyz="0 0 0" rpy="0 0 0"/>
      <geometry>
        <mesh filename="handle~handle10_convex_piece_45.obj" scale="1.0000E+00 1.0000E+00 1.0000E+00"/>
      </geometry>
      <material name=""/>
    </visual>
    <collision>
      <origin xyz="0 0 0" rpy="0 0 0"/>
      <geometry>
        <mesh filename="handle~handle10_convex_piece_45.obj" scale="1.0000E+00 1.0000E+00 1.0000E+00"/>
      </geometry>
    </collision>
  </link>
  <joint name="link_handle~handle10_convex_piece_45_joint" type="fixed">
    <origin xyz="0 0 0" rpy="0 0 0"/>
    <parent link="link_handle~handle10_convex_piece_44"/>
    <child link="link_handle~handle10_convex_piece_45"/>
  </joint>
  <link name="link_handle~handle10_convex_piece_46">
    <inertial>
      <origin xyz="0 0 0" rpy="0 0 0"/>
      <mass value="1.04E-03"/>
      <inertia ixx="3.66E-08" ixy="4.78E-08" ixz="3.91E-08" iyy="2.03E-07" iyz="-1.46E-08" izz="2.14E-07"/>
    </inertial>
    <visual>
      <origin xyz="0 0 0" rpy="0 0 0"/>
      <geometry>
        <mesh filename="handle~handle10_convex_piece_46.obj" scale="1.0000E+00 1.0000E+00 1.0000E+00"/>
      </geometry>
      <material name=""/>
    </visual>
    <collision>
      <origin xyz="0 0 0" rpy="0 0 0"/>
      <geometry>
        <mesh filename="handle~handle10_convex_piece_46.obj" scale="1.0000E+00 1.0000E+00 1.0000E+00"/>
      </geometry>
    </collision>
  </link>
  <joint name="link_handle~handle10_convex_piece_46_joint" type="fixed">
    <origin xyz="0 0 0" rpy="0 0 0"/>
    <parent link="link_handle~handle10_convex_piece_45"/>
    <child link="link_handle~handle10_convex_piece_46"/>
  </joint>
  <link name="link_handle~handle10_convex_piece_47">
    <inertial>
      <origin xyz="0 0 0" rpy="0 0 0"/>
      <mass value="1.02E-03"/>
      <inertia ixx="2.81E-08" ixy="-9.16E-08" ixz="-1.05E-07" iyy="1.31E-06" iyz="-1.03E-08" izz="1.31E-06"/>
    </inertial>
    <visual>
      <origin xyz="0 0 0" rpy="0 0 0"/>
      <geometry>
        <mesh filename="handle~handle10_convex_piece_47.obj" scale="1.0000E+00 1.0000E+00 1.0000E+00"/>
      </geometry>
      <material name=""/>
    </visual>
    <collision>
      <origin xyz="0 0 0" rpy="0 0 0"/>
      <geometry>
        <mesh filename="handle~handle10_convex_piece_47.obj" scale="1.0000E+00 1.0000E+00 1.0000E+00"/>
      </geometry>
    </collision>
  </link>
  <joint name="link_handle~handle10_convex_piece_47_joint" type="fixed">
    <origin xyz="0 0 0" rpy="0 0 0"/>
    <parent link="link_handle~handle10_convex_piece_46"/>
    <child link="link_handle~handle10_convex_piece_47"/>
  </joint>
  <link name="link_handle~handle10_convex_piece_48">
    <inertial>
      <origin xyz="0 0 0" rpy="0 0 0"/>
      <mass value="2.59E-04"/>
      <inertia ixx="1.71E-08" ixy="-1.02E-07" ixz="-5.99E-08" iyy="8.84E-07" iyz="-7.40E-09" izz="8.92E-07"/>
    </inertial>
    <visual>
      <origin xyz="0 0 0" rpy="0 0 0"/>
      <geometry>
        <mesh filename="handle~handle10_convex_piece_48.obj" scale="1.0000E+00 1.0000E+00 1.0000E+00"/>
      </geometry>
      <material name=""/>
    </visual>
    <collision>
      <origin xyz="0 0 0" rpy="0 0 0"/>
      <geometry>
        <mesh filename="handle~handle10_convex_piece_48.obj" scale="1.0000E+00 1.0000E+00 1.0000E+00"/>
      </geometry>
    </collision>
  </link>
  <joint name="link_handle~handle10_convex_piece_48_joint" type="fixed">
    <origin xyz="0 0 0" rpy="0 0 0"/>
    <parent link="link_handle~handle10_convex_piece_47"/>
    <child link="link_handle~handle10_convex_piece_48"/>
  </joint>
  <link name="link_handle~handle10_convex_piece_49">
    <inertial>
      <origin xyz="0 0 0" rpy="0 0 0"/>
      <mass value="1.62E-03"/>
      <inertia ixx="8.37E-08" ixy="2.49E-09" ixz="-1.36E-07" iyy="1.11E-06" iyz="2.76E-10" izz="1.14E-06"/>
    </inertial>
    <visual>
      <origin xyz="0 0 0" rpy="0 0 0"/>
      <geometry>
        <mesh filename="handle~handle10_convex_piece_49.obj" scale="1.0000E+00 1.0000E+00 1.0000E+00"/>
      </geometry>
      <material name=""/>
    </visual>
    <collision>
      <origin xyz="0 0 0" rpy="0 0 0"/>
      <geometry>
        <mesh filename="handle~handle10_convex_piece_49.obj" scale="1.0000E+00 1.0000E+00 1.0000E+00"/>
      </geometry>
    </collision>
  </link>
  <joint name="link_handle~handle10_convex_piece_49_joint" type="fixed">
    <origin xyz="0 0 0" rpy="0 0 0"/>
    <parent link="link_handle~handle10_convex_piece_48"/>
    <child link="link_handle~handle10_convex_piece_49"/>
  </joint>
  <link name="link_handle~handle10_convex_piece_50">
    <inertial>
      <origin xyz="0 0 0" rpy="0 0 0"/>
      <mass value="2.92E-04"/>
      <inertia ixx="7.21E-08" ixy="-2.46E-08" ixz="-1.17E-07" iyy="2.72E-07" iyz="-1.44E-08" izz="2.07E-07"/>
    </inertial>
    <visual>
      <origin xyz="0 0 0" rpy="0 0 0"/>
      <geometry>
        <mesh filename="handle~handle10_convex_piece_50.obj" scale="1.0000E+00 1.0000E+00 1.0000E+00"/>
      </geometry>
      <material name=""/>
    </visual>
    <collision>
      <origin xyz="0 0 0" rpy="0 0 0"/>
      <geometry>
        <mesh filename="handle~handle10_convex_piece_50.obj" scale="1.0000E+00 1.0000E+00 1.0000E+00"/>
      </geometry>
    </collision>
  </link>
  <joint name="link_handle~handle10_convex_piece_50_joint" type="fixed">
    <origin xyz="0 0 0" rpy="0 0 0"/>
    <parent link="link_handle~handle10_convex_piece_49"/>
    <child link="link_handle~handle10_convex_piece_50"/>
  </joint>
  <link name="link_handle~handle10_convex_piece_51">
    <inertial>
      <origin xyz="0 0 0" rpy="0 0 0"/>
      <mass value="4.64E-04"/>
      <inertia ixx="1.52E-08" ixy="-1.63E-08" ixz="-1.53E-07" iyy="2.82E-06" iyz="-1.07E-09" izz="2.82E-06"/>
    </inertial>
    <visual>
      <origin xyz="0 0 0" rpy="0 0 0"/>
      <geometry>
        <mesh filename="handle~handle10_convex_piece_51.obj" scale="1.0000E+00 1.0000E+00 1.0000E+00"/>
      </geometry>
      <material name=""/>
    </visual>
    <collision>
      <origin xyz="0 0 0" rpy="0 0 0"/>
      <geometry>
        <mesh filename="handle~handle10_convex_piece_51.obj" scale="1.0000E+00 1.0000E+00 1.0000E+00"/>
      </geometry>
    </collision>
  </link>
  <joint name="link_handle~handle10_convex_piece_51_joint" type="fixed">
    <origin xyz="0 0 0" rpy="0 0 0"/>
    <parent link="link_handle~handle10_convex_piece_50"/>
    <child link="link_handle~handle10_convex_piece_51"/>
  </joint>
  <link name="link_handle~handle10_convex_piece_52">
    <inertial>
      <origin xyz="0 0 0" rpy="0 0 0"/>
      <mass value="1.82E-04"/>
      <inertia ixx="7.00E-08" ixy="2.41E-08" ixz="-9.36E-08" iyy="2.65E-07" iyz="1.15E-08" izz="2.00E-07"/>
    </inertial>
    <visual>
      <origin xyz="0 0 0" rpy="0 0 0"/>
      <geometry>
        <mesh filename="handle~handle10_convex_piece_52.obj" scale="1.0000E+00 1.0000E+00 1.0000E+00"/>
      </geometry>
      <material name=""/>
    </visual>
    <collision>
      <origin xyz="0 0 0" rpy="0 0 0"/>
      <geometry>
        <mesh filename="handle~handle10_convex_piece_52.obj" scale="1.0000E+00 1.0000E+00 1.0000E+00"/>
      </geometry>
    </collision>
  </link>
  <joint name="link_handle~handle10_convex_piece_52_joint" type="fixed">
    <origin xyz="0 0 0" rpy="0 0 0"/>
    <parent link="link_handle~handle10_convex_piece_51"/>
    <child link="link_handle~handle10_convex_piece_52"/>
  </joint>
  <link name="link_handle~handle10_convex_piece_53">
    <inertial>
      <origin xyz="0 0 0" rpy="0 0 0"/>
      <mass value="2.14E-04"/>
      <inertia ixx="2.05E-07" ixy="2.10E-08" ixz="-2.44E-07" iyy="5.00E-07" iyz="1.75E-08" izz="2.98E-07"/>
    </inertial>
    <visual>
      <origin xyz="0 0 0" rpy="0 0 0"/>
      <geometry>
        <mesh filename="handle~handle10_convex_piece_53.obj" scale="1.0000E+00 1.0000E+00 1.0000E+00"/>
      </geometry>
      <material name=""/>
    </visual>
    <collision>
      <origin xyz="0 0 0" rpy="0 0 0"/>
      <geometry>
        <mesh filename="handle~handle10_convex_piece_53.obj" scale="1.0000E+00 1.0000E+00 1.0000E+00"/>
      </geometry>
    </collision>
  </link>
  <joint name="link_handle~handle10_convex_piece_53_joint" type="fixed">
    <origin xyz="0 0 0" rpy="0 0 0"/>
    <parent link="link_handle~handle10_convex_piece_52"/>
    <child link="link_handle~handle10_convex_piece_53"/>
  </joint>
  <link name="link_handle~handle10_convex_piece_54">
    <inertial>
      <origin xyz="0 0 0" rpy="0 0 0"/>
      <mass value="3.63E-04"/>
      <inertia ixx="2.85E-07" ixy="2.64E-08" ixz="-2.86E-07" iyy="5.80E-07" iyz="2.55E-08" izz="3.00E-07"/>
    </inertial>
    <visual>
      <origin xyz="0 0 0" rpy="0 0 0"/>
      <geometry>
        <mesh filename="handle~handle10_convex_piece_54.obj" scale="1.0000E+00 1.0000E+00 1.0000E+00"/>
      </geometry>
      <material name=""/>
    </visual>
    <collision>
      <origin xyz="0 0 0" rpy="0 0 0"/>
      <geometry>
        <mesh filename="handle~handle10_convex_piece_54.obj" scale="1.0000E+00 1.0000E+00 1.0000E+00"/>
      </geometry>
    </collision>
  </link>
  <joint name="link_handle~handle10_convex_piece_54_joint" type="fixed">
    <origin xyz="0 0 0" rpy="0 0 0"/>
    <parent link="link_handle~handle10_convex_piece_53"/>
    <child link="link_handle~handle10_convex_piece_54"/>
  </joint>
  <link name="link_handle~handle10_convex_piece_55">
    <inertial>
      <origin xyz="0 0 0" rpy="0 0 0"/>
      <mass value="2.66E-04"/>
      <inertia ixx="2.58E-07" ixy="4.80E-08" ixz="-2.73E-07" iyy="5.54E-07" iyz="4.32E-08" izz="3.12E-07"/>
    </inertial>
    <visual>
      <origin xyz="0 0 0" rpy="0 0 0"/>
      <geometry>
        <mesh filename="handle~handle10_convex_piece_55.obj" scale="1.0000E+00 1.0000E+00 1.0000E+00"/>
      </geometry>
      <material name=""/>
    </visual>
    <collision>
      <origin xyz="0 0 0" rpy="0 0 0"/>
      <geometry>
        <mesh filename="handle~handle10_convex_piece_55.obj" scale="1.0000E+00 1.0000E+00 1.0000E+00"/>
      </geometry>
    </collision>
  </link>
  <joint name="link_handle~handle10_convex_piece_55_joint" type="fixed">
    <origin xyz="0 0 0" rpy="0 0 0"/>
    <parent link="link_handle~handle10_convex_piece_54"/>
    <child link="link_handle~handle10_convex_piece_55"/>
  </joint>
  <link name="link_handle~handle10_convex_piece_56">
    <inertial>
      <origin xyz="0 0 0" rpy="0 0 0"/>
      <mass value="4.65E-03"/>
      <inertia ixx="5.23E-07" ixy="-3.92E-07" ixz="5.22E-07" iyy="1.78E-06" iyz="1.96E-07" izz="1.62E-06"/>
    </inertial>
    <visual>
      <origin xyz="0 0 0" rpy="0 0 0"/>
      <geometry>
        <mesh filename="handle~handle10_convex_piece_56.obj" scale="1.0000E+00 1.0000E+00 1.0000E+00"/>
      </geometry>
      <material name=""/>
    </visual>
    <collision>
      <origin xyz="0 0 0" rpy="0 0 0"/>
      <geometry>
        <mesh filename="handle~handle10_convex_piece_56.obj" scale="1.0000E+00 1.0000E+00 1.0000E+00"/>
      </geometry>
    </collision>
  </link>
  <joint name="link_handle~handle10_convex_piece_56_joint" type="fixed">
    <origin xyz="0 0 0" rpy="0 0 0"/>
    <parent link="link_handle~handle10_convex_piece_55"/>
    <child link="link_handle~handle10_convex_piece_56"/>
  </joint>
  <link name="link_handle~handle10_convex_piece_57">
    <inertial>
      <origin xyz="0 0 0" rpy="0 0 0"/>
      <mass value="7.59E-04"/>
      <inertia ixx="8.76E-08" ixy="2.43E-07" ixz="-4.07E-07" iyy="3.03E-06" iyz="3.38E-08" izz="2.99E-06"/>
    </inertial>
    <visual>
      <origin xyz="0 0 0" rpy="0 0 0"/>
      <geometry>
        <mesh filename="handle~handle10_convex_piece_57.obj" scale="1.0000E+00 1.0000E+00 1.0000E+00"/>
      </geometry>
      <material name=""/>
    </visual>
    <collision>
      <origin xyz="0 0 0" rpy="0 0 0"/>
      <geometry>
        <mesh filename="handle~handle10_convex_piece_57.obj" scale="1.0000E+00 1.0000E+00 1.0000E+00"/>
      </geometry>
    </collision>
  </link>
  <joint name="link_handle~handle10_convex_piece_57_joint" type="fixed">
    <origin xyz="0 0 0" rpy="0 0 0"/>
    <parent link="link_handle~handle10_convex_piece_56"/>
    <child link="link_handle~handle10_convex_piece_57"/>
  </joint>
  <link name="link_handle~handle10_convex_piece_58">
    <inertial>
      <origin xyz="0 0 0" rpy="0 0 0"/>
      <mass value="3.18E-03"/>
      <inertia ixx="3.87E-07" ixy="-7.10E-08" ixz="-1.73E-07" iyy="5.83E-07" iyz="-1.25E-07" izz="3.73E-07"/>
    </inertial>
    <visual>
      <origin xyz="0 0 0" rpy="0 0 0"/>
      <geometry>
        <mesh filename="handle~handle10_convex_piece_58.obj" scale="1.0000E+00 1.0000E+00 1.0000E+00"/>
      </geometry>
      <material name=""/>
    </visual>
    <collision>
      <origin xyz="0 0 0" rpy="0 0 0"/>
      <geometry>
        <mesh filename="handle~handle10_convex_piece_58.obj" scale="1.0000E+00 1.0000E+00 1.0000E+00"/>
      </geometry>
    </collision>
  </link>
  <joint name="link_handle~handle10_convex_piece_58_joint" type="fixed">
    <origin xyz="0 0 0" rpy="0 0 0"/>
    <parent link="link_handle~handle10_convex_piece_57"/>
    <child link="link_handle~handle10_convex_piece_58"/>
  </joint>
  <link name="link_handle~handle10_convex_piece_59">
    <inertial>
      <origin xyz="0 0 0" rpy="0 0 0"/>
      <mass value="1.89E-04"/>
      <inertia ixx="3.51E-09" ixy="-3.07E-09" ixz="1.99E-08" iyy="2.07E-07" iyz="1.18E-10" izz="2.06E-07"/>
    </inertial>
    <visual>
      <origin xyz="0 0 0" rpy="0 0 0"/>
      <geometry>
        <mesh filename="handle~handle10_convex_piece_59.obj" scale="1.0000E+00 1.0000E+00 1.0000E+00"/>
      </geometry>
      <material name=""/>
    </visual>
    <collision>
      <origin xyz="0 0 0" rpy="0 0 0"/>
      <geometry>
        <mesh filename="handle~handle10_convex_piece_59.obj" scale="1.0000E+00 1.0000E+00 1.0000E+00"/>
      </geometry>
    </collision>
  </link>
  <joint name="link_handle~handle10_convex_piece_59_joint" type="fixed">
    <origin xyz="0 0 0" rpy="0 0 0"/>
    <parent link="link_handle~handle10_convex_piece_58"/>
    <child link="link_handle~handle10_convex_piece_59"/>
  </joint>
  <link name="link_handle~handle10_convex_piece_60">
    <inertial>
      <origin xyz="0 0 0" rpy="0 0 0"/>
      <mass value="4.02E-04"/>
      <inertia ixx="2.12E-07" ixy="-1.26E-08" ixz="-2.24E-07" iyy="4.51E-07" iyz="-1.13E-08" izz="2.48E-07"/>
    </inertial>
    <visual>
      <origin xyz="0 0 0" rpy="0 0 0"/>
      <geometry>
        <mesh filename="handle~handle10_convex_piece_60.obj" scale="1.0000E+00 1.0000E+00 1.0000E+00"/>
      </geometry>
      <material name=""/>
    </visual>
    <collision>
      <origin xyz="0 0 0" rpy="0 0 0"/>
      <geometry>
        <mesh filename="handle~handle10_convex_piece_60.obj" scale="1.0000E+00 1.0000E+00 1.0000E+00"/>
      </geometry>
    </collision>
  </link>
  <joint name="link_handle~handle10_convex_piece_60_joint" type="fixed">
    <origin xyz="0 0 0" rpy="0 0 0"/>
    <parent link="link_handle~handle10_convex_piece_59"/>
    <child link="link_handle~handle10_convex_piece_60"/>
  </joint>
  <link name="link_handle~handle10_convex_piece_61">
    <inertial>
      <origin xyz="0 0 0" rpy="0 0 0"/>
      <mass value="1.07E-04"/>
      <inertia ixx="5.36E-09" ixy="2.99E-08" ixz="-1.16E-08" iyy="2.36E-07" iyz="1.75E-09" izz="2.40E-07"/>
    </inertial>
    <visual>
      <origin xyz="0 0 0" rpy="0 0 0"/>
      <geometry>
        <mesh filename="handle~handle10_convex_piece_61.obj" scale="1.0000E+00 1.0000E+00 1.0000E+00"/>
      </geometry>
      <material name=""/>
    </visual>
    <collision>
      <origin xyz="0 0 0" rpy="0 0 0"/>
      <geometry>
        <mesh filename="handle~handle10_convex_piece_61.obj" scale="1.0000E+00 1.0000E+00 1.0000E+00"/>
      </geometry>
    </collision>
  </link>
  <joint name="link_handle~handle10_convex_piece_61_joint" type="fixed">
    <origin xyz="0 0 0" rpy="0 0 0"/>
    <parent link="link_handle~handle10_convex_piece_60"/>
    <child link="link_handle~handle10_convex_piece_61"/>
  </joint>
  <link name="link_handle~handle10_convex_piece_62">
    <inertial>
      <origin xyz="0 0 0" rpy="0 0 0"/>
      <mass value="2.34E-04"/>
      <inertia ixx="1.57E-07" ixy="-2.27E-08" ixz="-1.72E-07" iyy="3.49E-07" iyz="-2.00E-08" izz="1.99E-07"/>
    </inertial>
    <visual>
      <origin xyz="0 0 0" rpy="0 0 0"/>
      <geometry>
        <mesh filename="handle~handle10_convex_piece_62.obj" scale="1.0000E+00 1.0000E+00 1.0000E+00"/>
      </geometry>
      <material name=""/>
    </visual>
    <collision>
      <origin xyz="0 0 0" rpy="0 0 0"/>
      <geometry>
        <mesh filename="handle~handle10_convex_piece_62.obj" scale="1.0000E+00 1.0000E+00 1.0000E+00"/>
      </geometry>
    </collision>
  </link>
  <joint name="link_handle~handle10_convex_piece_62_joint" type="fixed">
    <origin xyz="0 0 0" rpy="0 0 0"/>
    <parent link="link_handle~handle10_convex_piece_61"/>
    <child link="link_handle~handle10_convex_piece_62"/>
  </joint>
  <link name="link_handle~handle10_convex_piece_63">
    <inertial>
      <origin xyz="0 0 0" rpy="0 0 0"/>
      <mass value="5.14E-03"/>
      <inertia ixx="7.35E-07" ixy="-9.79E-10" ixz="-1.84E-06" iyy="7.16E-06" iyz="-1.54E-10" izz="6.74E-06"/>
    </inertial>
    <visual>
      <origin xyz="0 0 0" rpy="0 0 0"/>
      <geometry>
        <mesh filename="handle~handle10_convex_piece_63.obj" scale="1.0000E+00 1.0000E+00 1.0000E+00"/>
      </geometry>
      <material name=""/>
    </visual>
    <collision>
      <origin xyz="0 0 0" rpy="0 0 0"/>
      <geometry>
        <mesh filename="handle~handle10_convex_piece_63.obj" scale="1.0000E+00 1.0000E+00 1.0000E+00"/>
      </geometry>
    </collision>
  </link>
  <joint name="link_handle~handle10_convex_piece_63_joint" type="fixed">
    <origin xyz="0 0 0" rpy="0 0 0"/>
    <parent link="link_handle~handle10_convex_piece_62"/>
    <child link="link_handle~handle10_convex_piece_63"/>
  </joint>
</robot>
